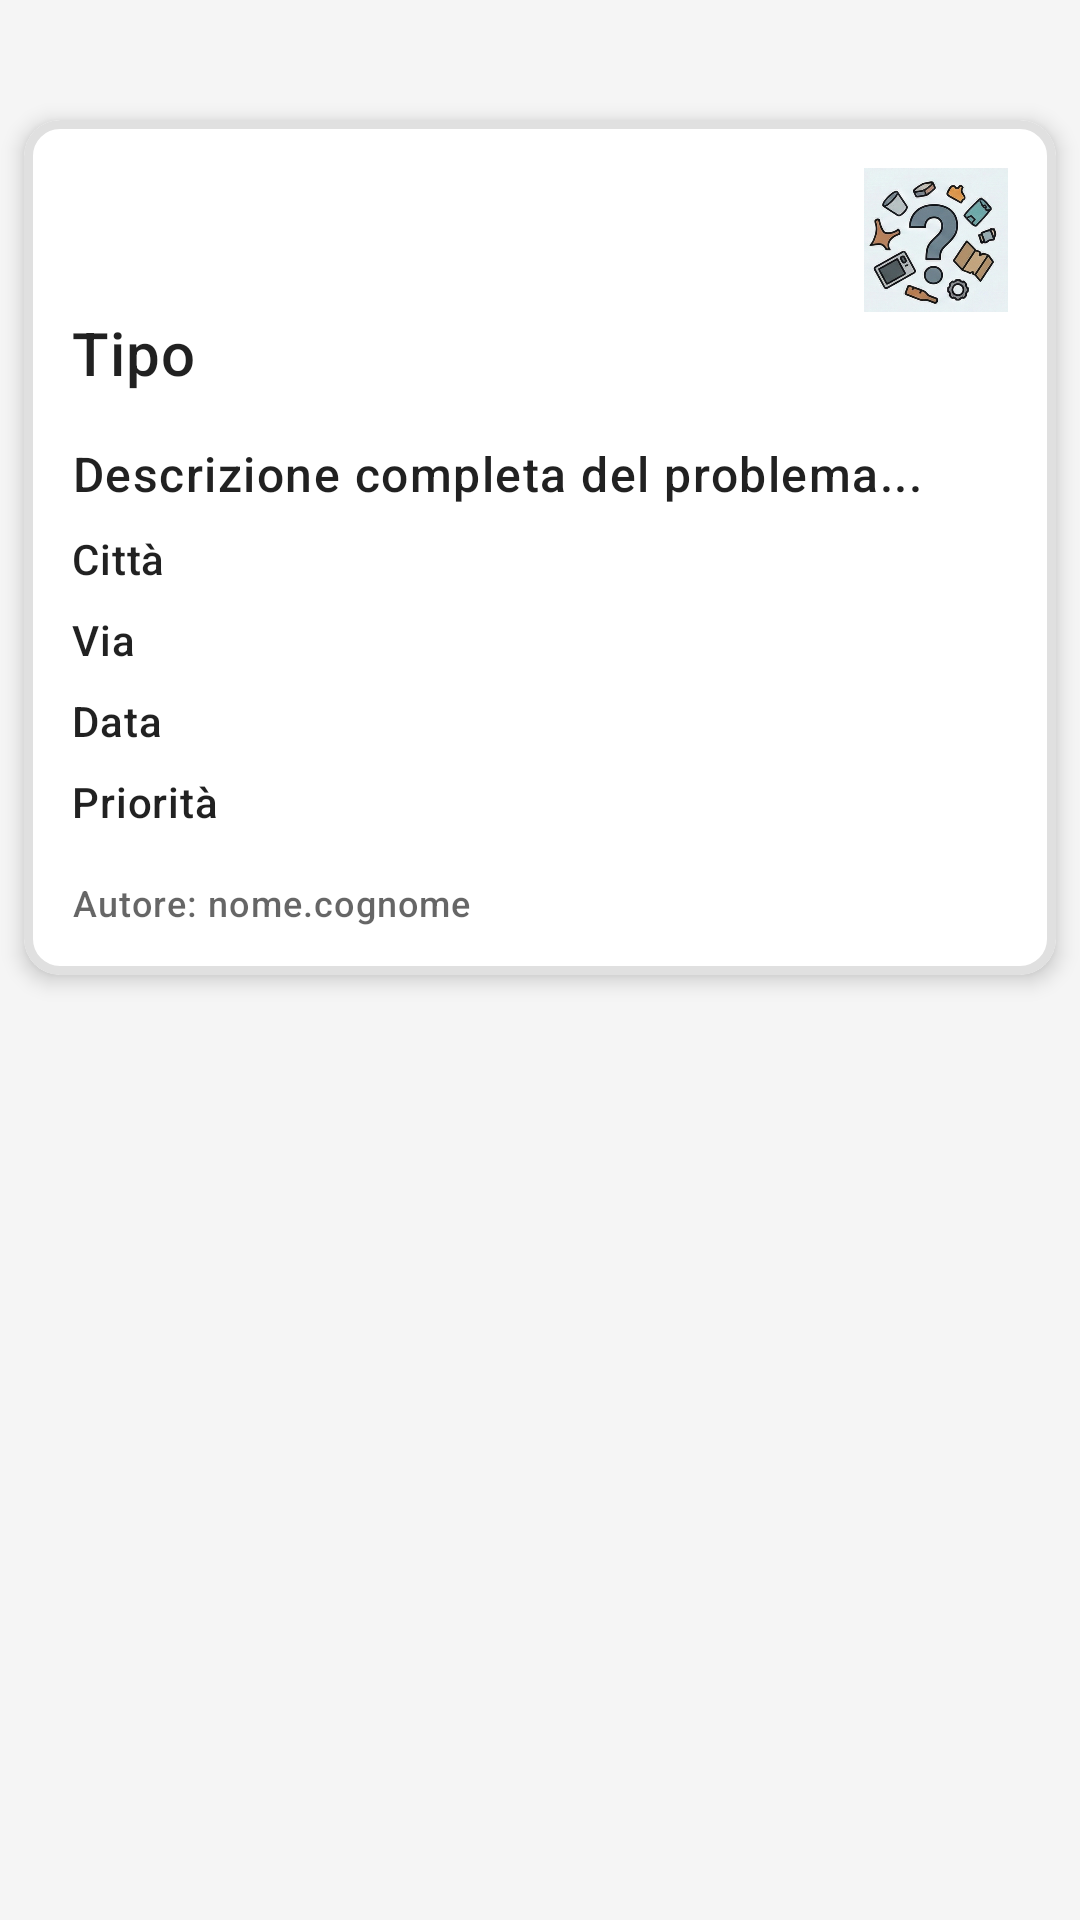

Icons on this 1080px×1920px Android screen, each with the point to tap as [x,y]:
waste: [936,240]
